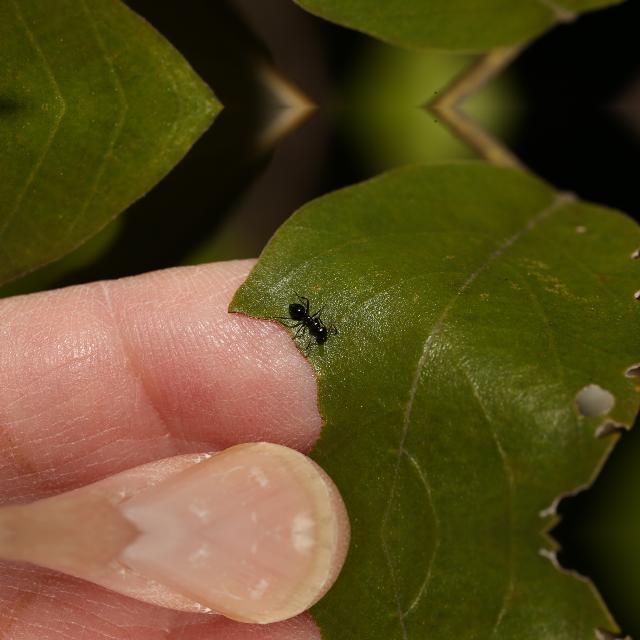Colobopsis: (282, 296, 338, 342)
